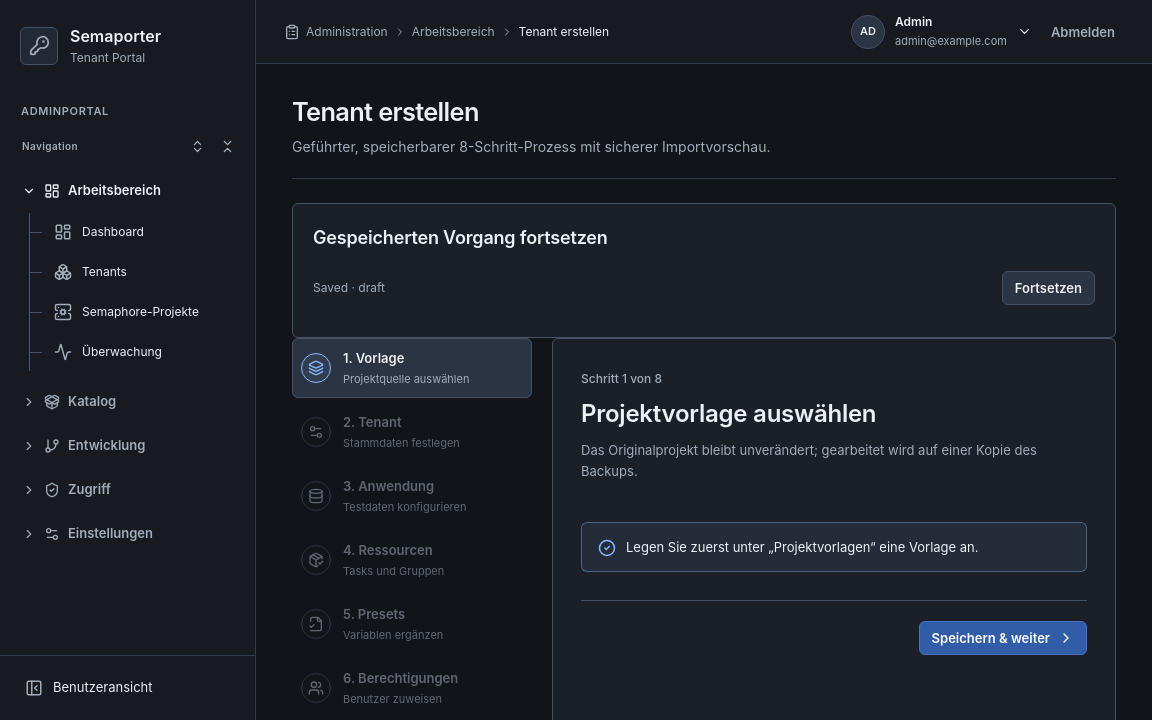
Portal-Flows › lädt Tenant und Runtime-Scope aus einem gespeicherten Entwurf
Click the button "Fortsetzen" at {"x": 1048, "y": 288}, box top-left (1002, 271), bottom-right (1095, 305)
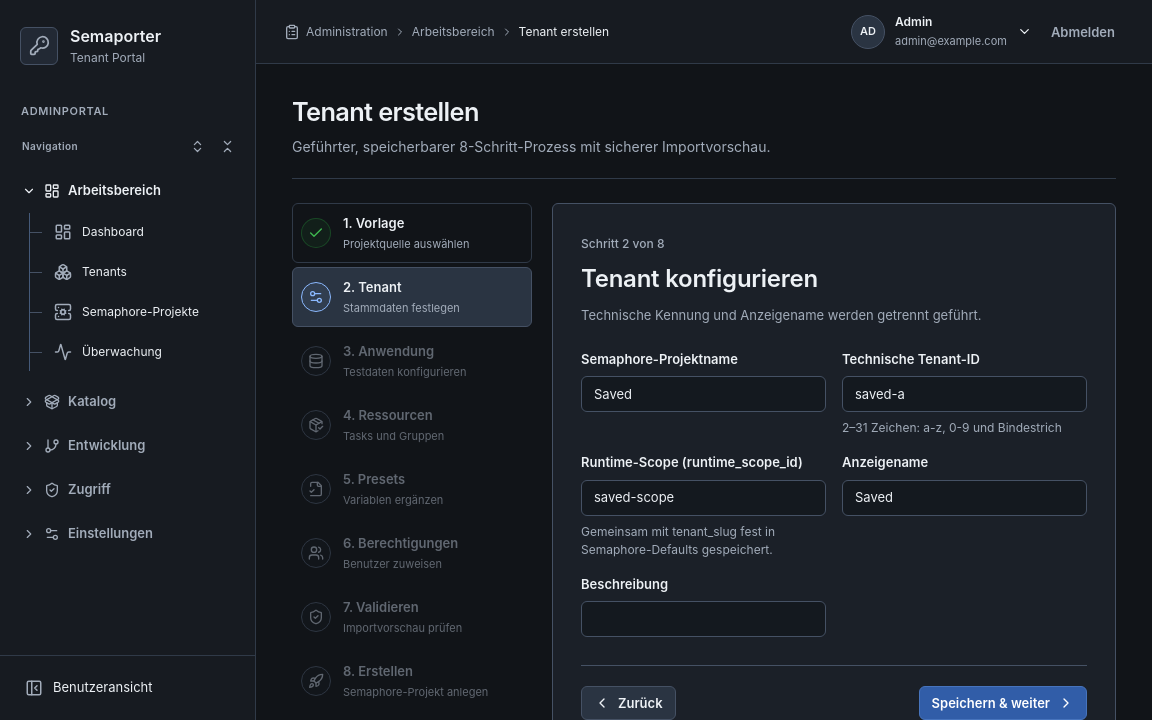
Expected: the field labelled "Technische Tenant-ID 2–31 Zeichen: a-z, 0-9 und Bindestrich" holds "saved-a", top-left (842, 376), bottom-right (1087, 412)
Expected: the field labelled "Runtime-Scope" holds "saved-scope", top-left (581, 480), bottom-right (826, 516)
